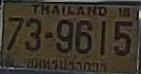1: (100, 21, 106, 54)
3: (24, 18, 41, 50)
5: (113, 20, 132, 55)
6: (74, 19, 92, 53)
7: (7, 16, 24, 50)
9: (56, 18, 72, 52)
SPK: (25, 55, 109, 73)
